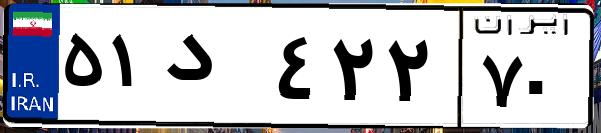0: (525, 38, 570, 115)
1: (110, 28, 158, 98)
2: (385, 28, 445, 110), (330, 28, 385, 110)
4: (270, 28, 330, 110)
5: (57, 26, 110, 100)
7: (475, 38, 525, 113)
د: (158, 20, 270, 120)
